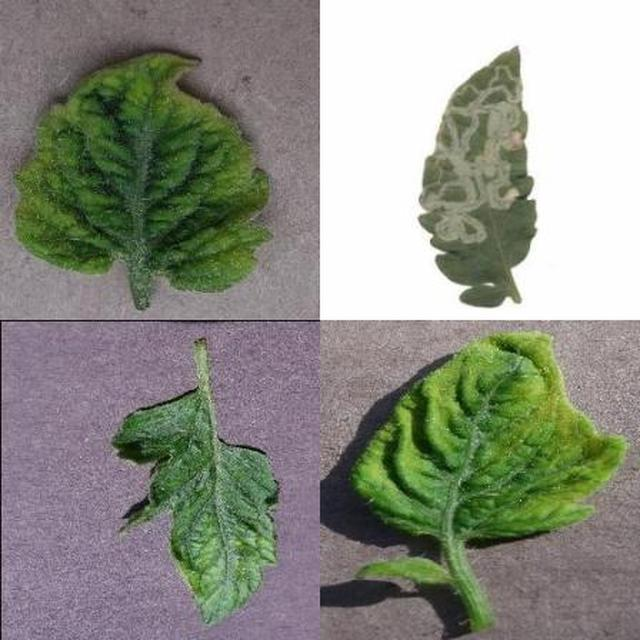Yellow Leaf Curl Virus: (176, 245, 640, 640)
